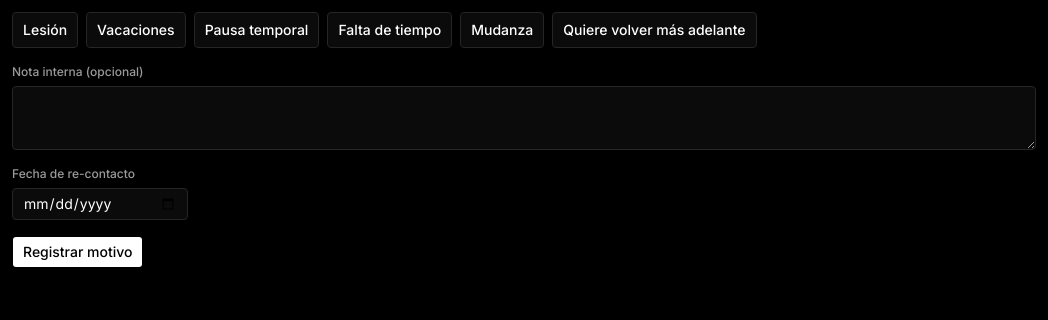
InactivityReasonForm › shows errors that are not tied to a field as an alert
Click the button "Lesión". click: (45, 30)
box: [12,12,78,48]
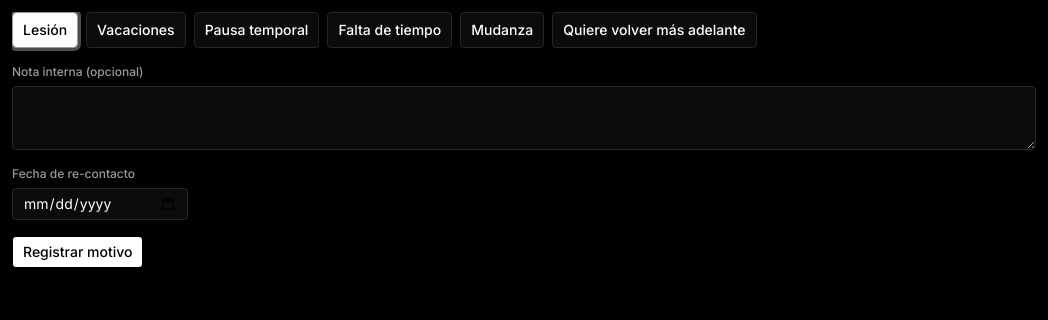
Click the button "Registrar motivo". click: (78, 252)
box: [12,236,144,268]
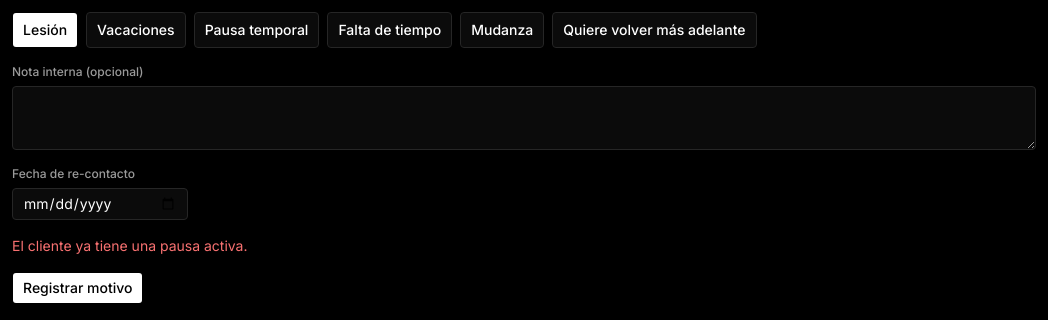
Expected: the message reads "El cliente ya tiene una pausa activa.", [12,237,248,254]
